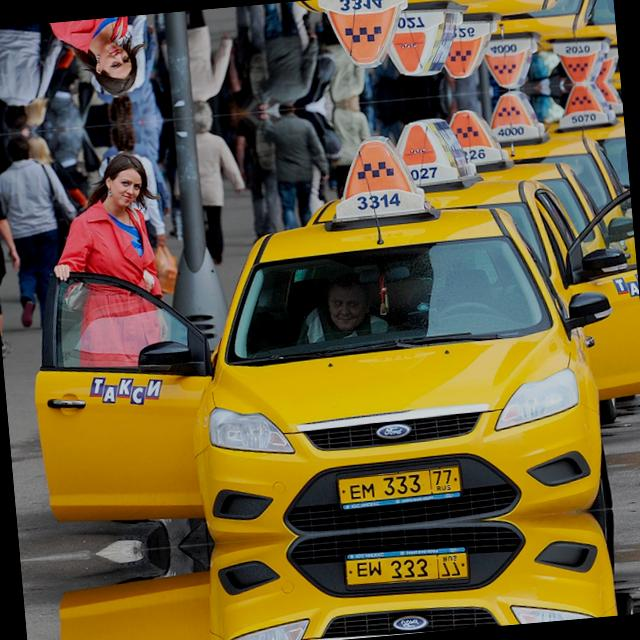taxi: (330, 462, 464, 510), (336, 543, 472, 590)
